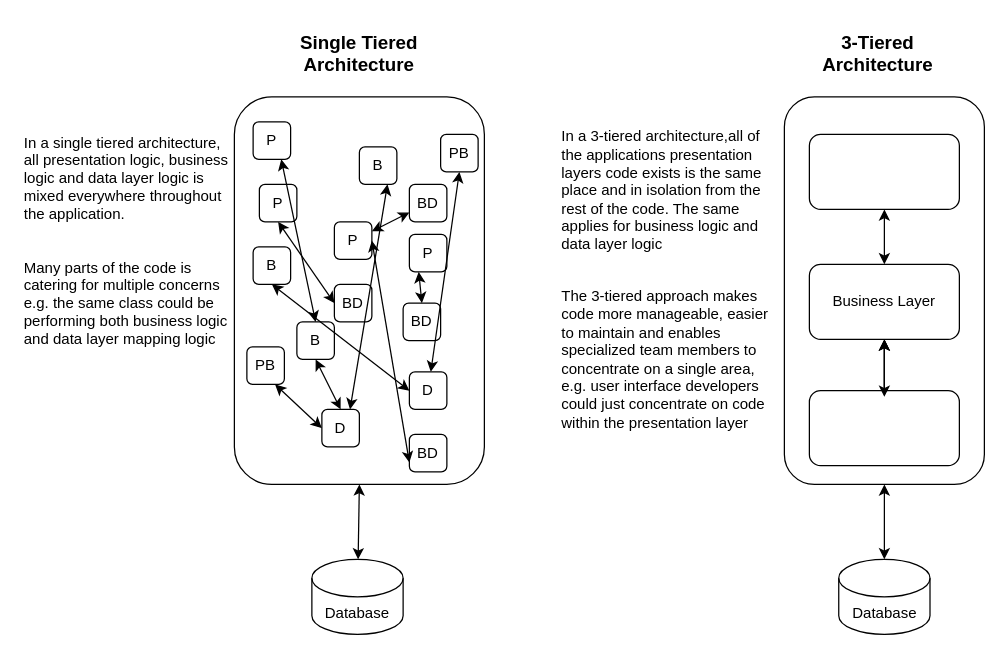
Some shapes in this 1006 by 656 pixel diagram are drawn without their labels. Here are the shapes that lost their labels. From the top down, the centre of each, then its label:
the point at 883,171: Presentation Layer
the point at 883,427: Data Layer
